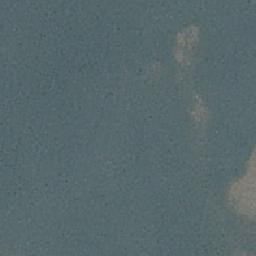debris: (229, 173, 256, 214), (172, 26, 198, 58), (191, 95, 208, 123), (245, 150, 255, 170)
